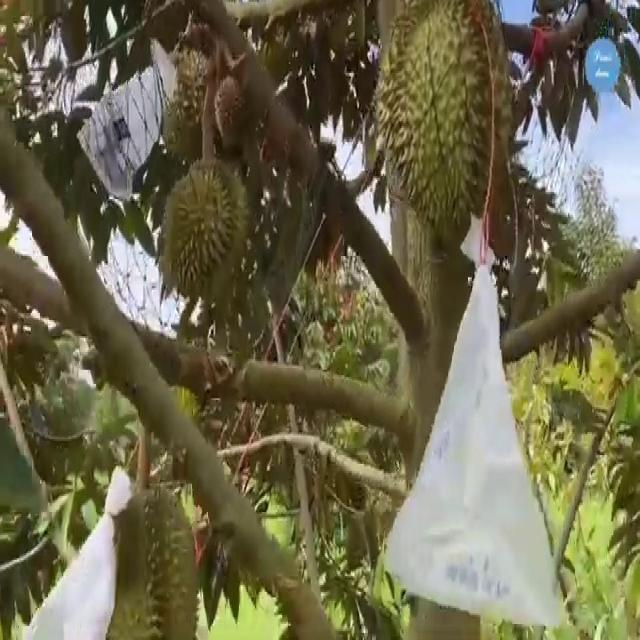durian: (372, 0, 514, 242), (99, 475, 205, 638), (155, 154, 252, 316)
